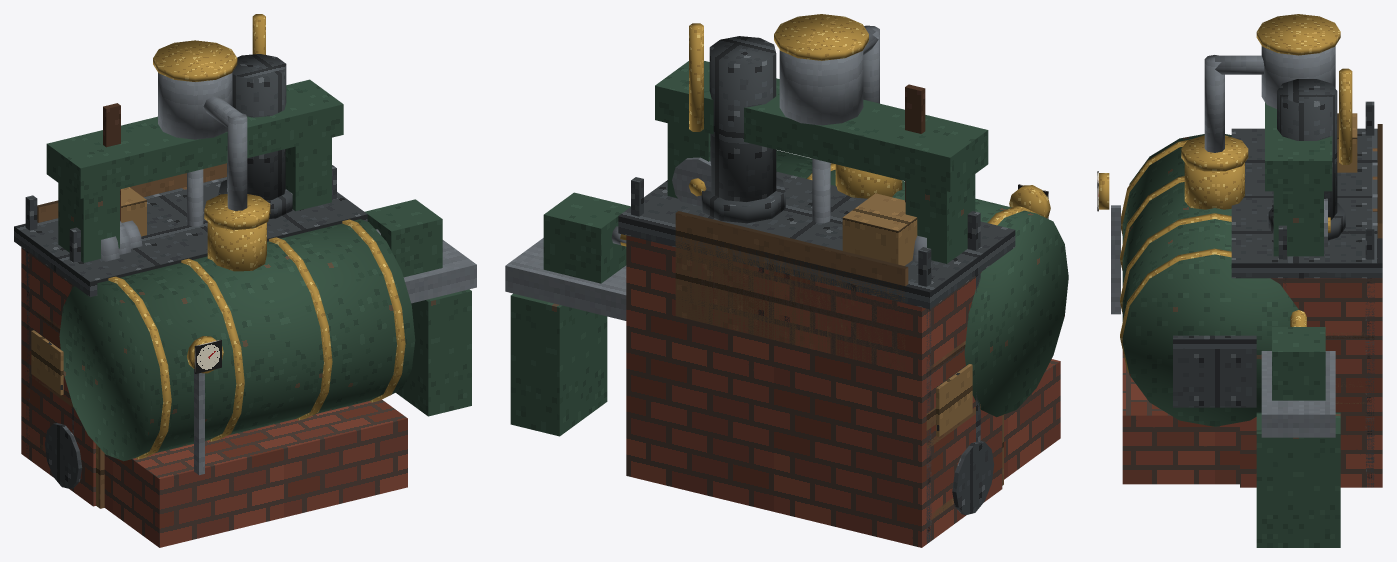
The model's file is factory-kit.glb.
3 views of the same model, side by side, from view 1: azimuth 30°, elevation 25°; view 2: azimuth 150°, elevation 25°; view 3: azimuth 270°, elevation 25° (orthographic). The views are drawn at different scales.
Visible parts, largest first — view 1: m-boiler, m-press, m-furnace, m-lathe, m-rack, m-cart, m-bench; view 2: m-furnace, m-press, m-boiler, m-lathe, m-bench, m-rack, m-cart; view 3: m-boiler, m-furnace, m-lathe, m-press, m-rack, m-bench.
Part boxes in pixels (x1,y1,x2,y2): m-boiler: [59, 96, 415, 547]; m-press: [46, 14, 343, 262]; m-furnace: [14, 54, 367, 506]; m-lathe: [101, 103, 476, 416]; m-rack: [25, 165, 336, 489]; m-cart: [45, 423, 82, 488]; m-bench: [37, 163, 226, 222]; m-furnace: [618, 36, 1015, 547]; m-press: [655, 14, 988, 263]; m-boiler: [776, 25, 1068, 479]; m-lathe: [505, 84, 926, 436]; m-bench: [675, 211, 935, 430]; m-rack: [631, 157, 980, 543]; m-cart: [952, 441, 994, 515]; m-boiler: [1097, 55, 1298, 484]; m-furnace: [1231, 79, 1382, 487]; m-lathe: [1256, 310, 1340, 547]; m-press: [1256, 14, 1352, 256]; m-rack: [1278, 101, 1374, 487]; m-bench: [1338, 124, 1382, 386].
Size of the model in its own units: 2.75 by 2.61 by 1.7.
Materials: 13 (13 with a texture image).
